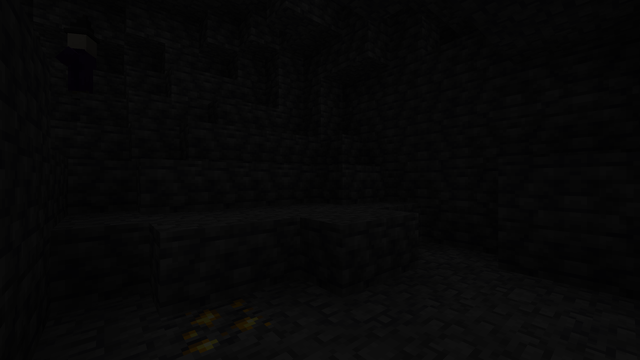sorcieres: (67, 27, 95, 100)
